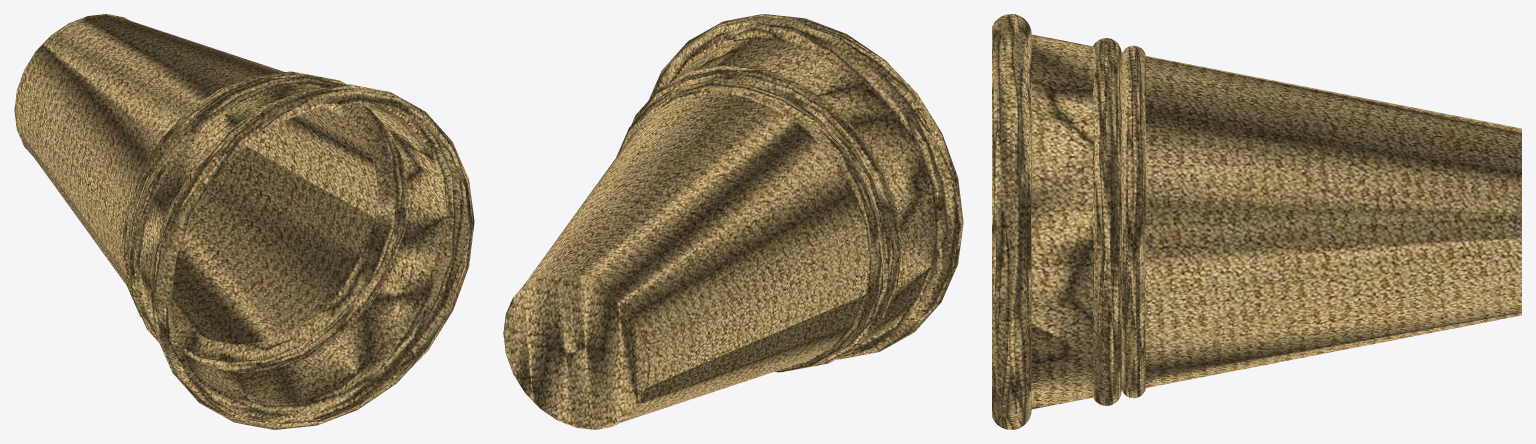
The model's file is model_align.obj.
The picture shows the model from 3 angles, left to right: view 1: azimuth 30°, elevation 25°; view 2: azimuth 150°, elevation 25°; view 3: azimuth 270°, elevation 25°; orthographic projection. The views are drawn at different scales.
Size of the model in its own units: 0.0797 by 0.0797 by 0.1011.
Materials: 1 (1 with a texture image).
